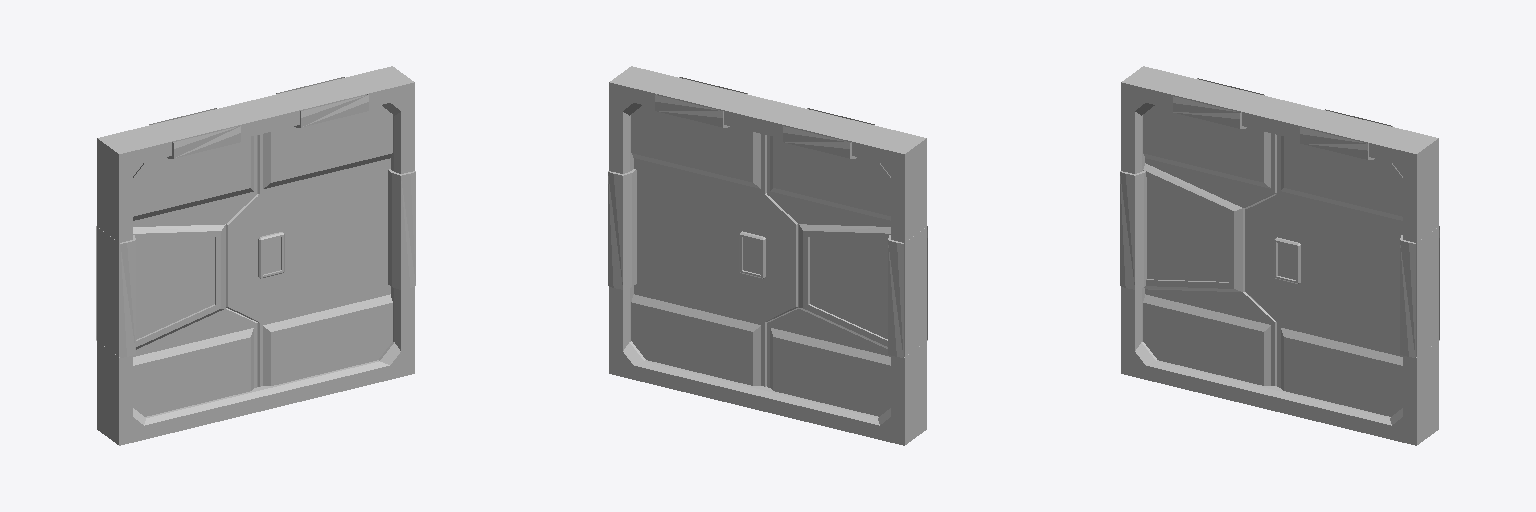
The model's file is Door.obj.
3 renders of one model, left to right at view 1: azimuth 30°, elevation 25°; view 2: azimuth 150°, elevation 25°; view 3: azimuth 330°, elevation 25°, orthographic.
Parts seen in each view (by area): view 1: objMesh; view 2: objMesh; view 3: objMesh.
Boxes of the visible parts, x1=… form: objMesh: x1=96, y1=66, x2=415, y2=445; objMesh: x1=608, y1=66, x2=927, y2=445; objMesh: x1=1120, y1=66, x2=1439, y2=445.
Size of the model in its own units: 20.09 by 18.92 by 3.